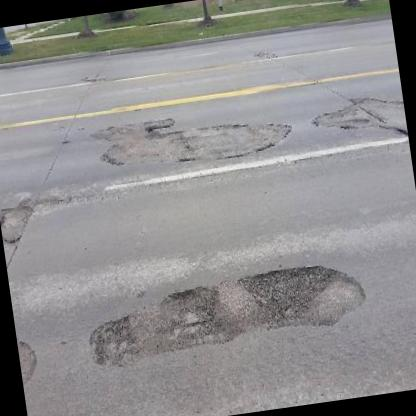pothole: (235, 260, 340, 324), (160, 278, 226, 345), (87, 310, 139, 367), (142, 120, 158, 137)
